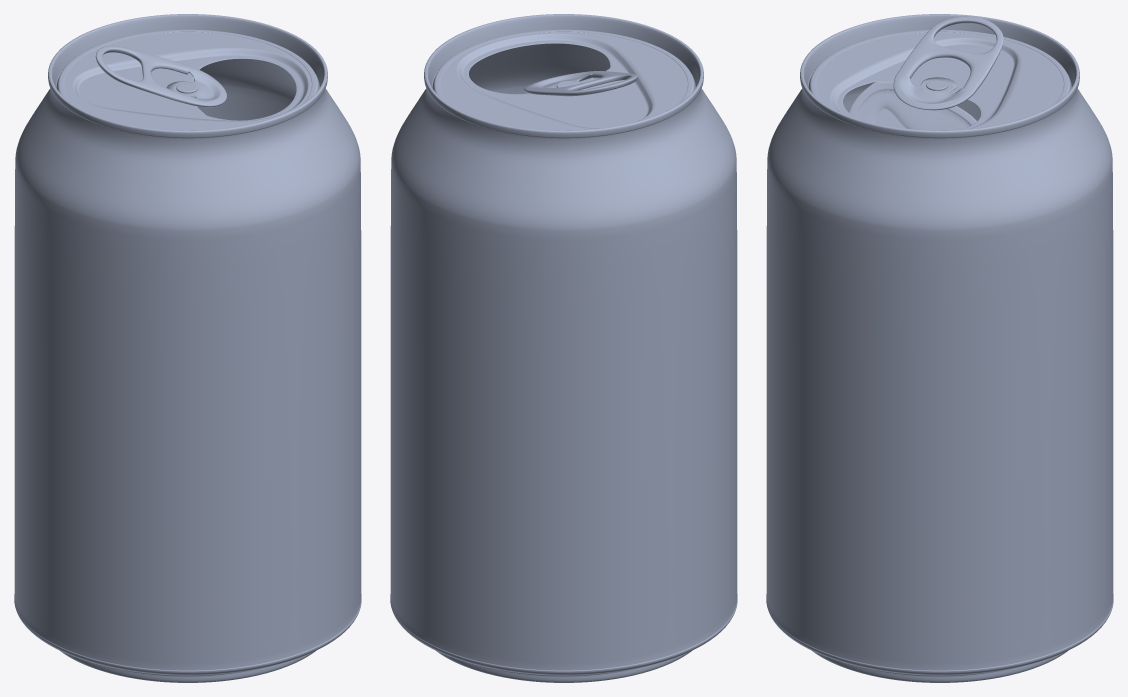
File: can.dae
3 views of the same model, side by side, from view 1: azimuth 30°, elevation 25°; view 2: azimuth 150°, elevation 25°; view 3: azimuth 270°, elevation 25° (orthographic).
Visible parts, largest first — view 1: Beverage_Can; view 2: Beverage_Can; view 3: Beverage_Can.
Boxes of the visible parts, x1=… form: Beverage_Can: x1=14, y1=14, x2=361, y2=682; Beverage_Can: x1=390, y1=14, x2=737, y2=682; Beverage_Can: x1=766, y1=14, x2=1113, y2=682.
Size of the model in its own units: 0.0509 by 0.0509 by 0.0919.
